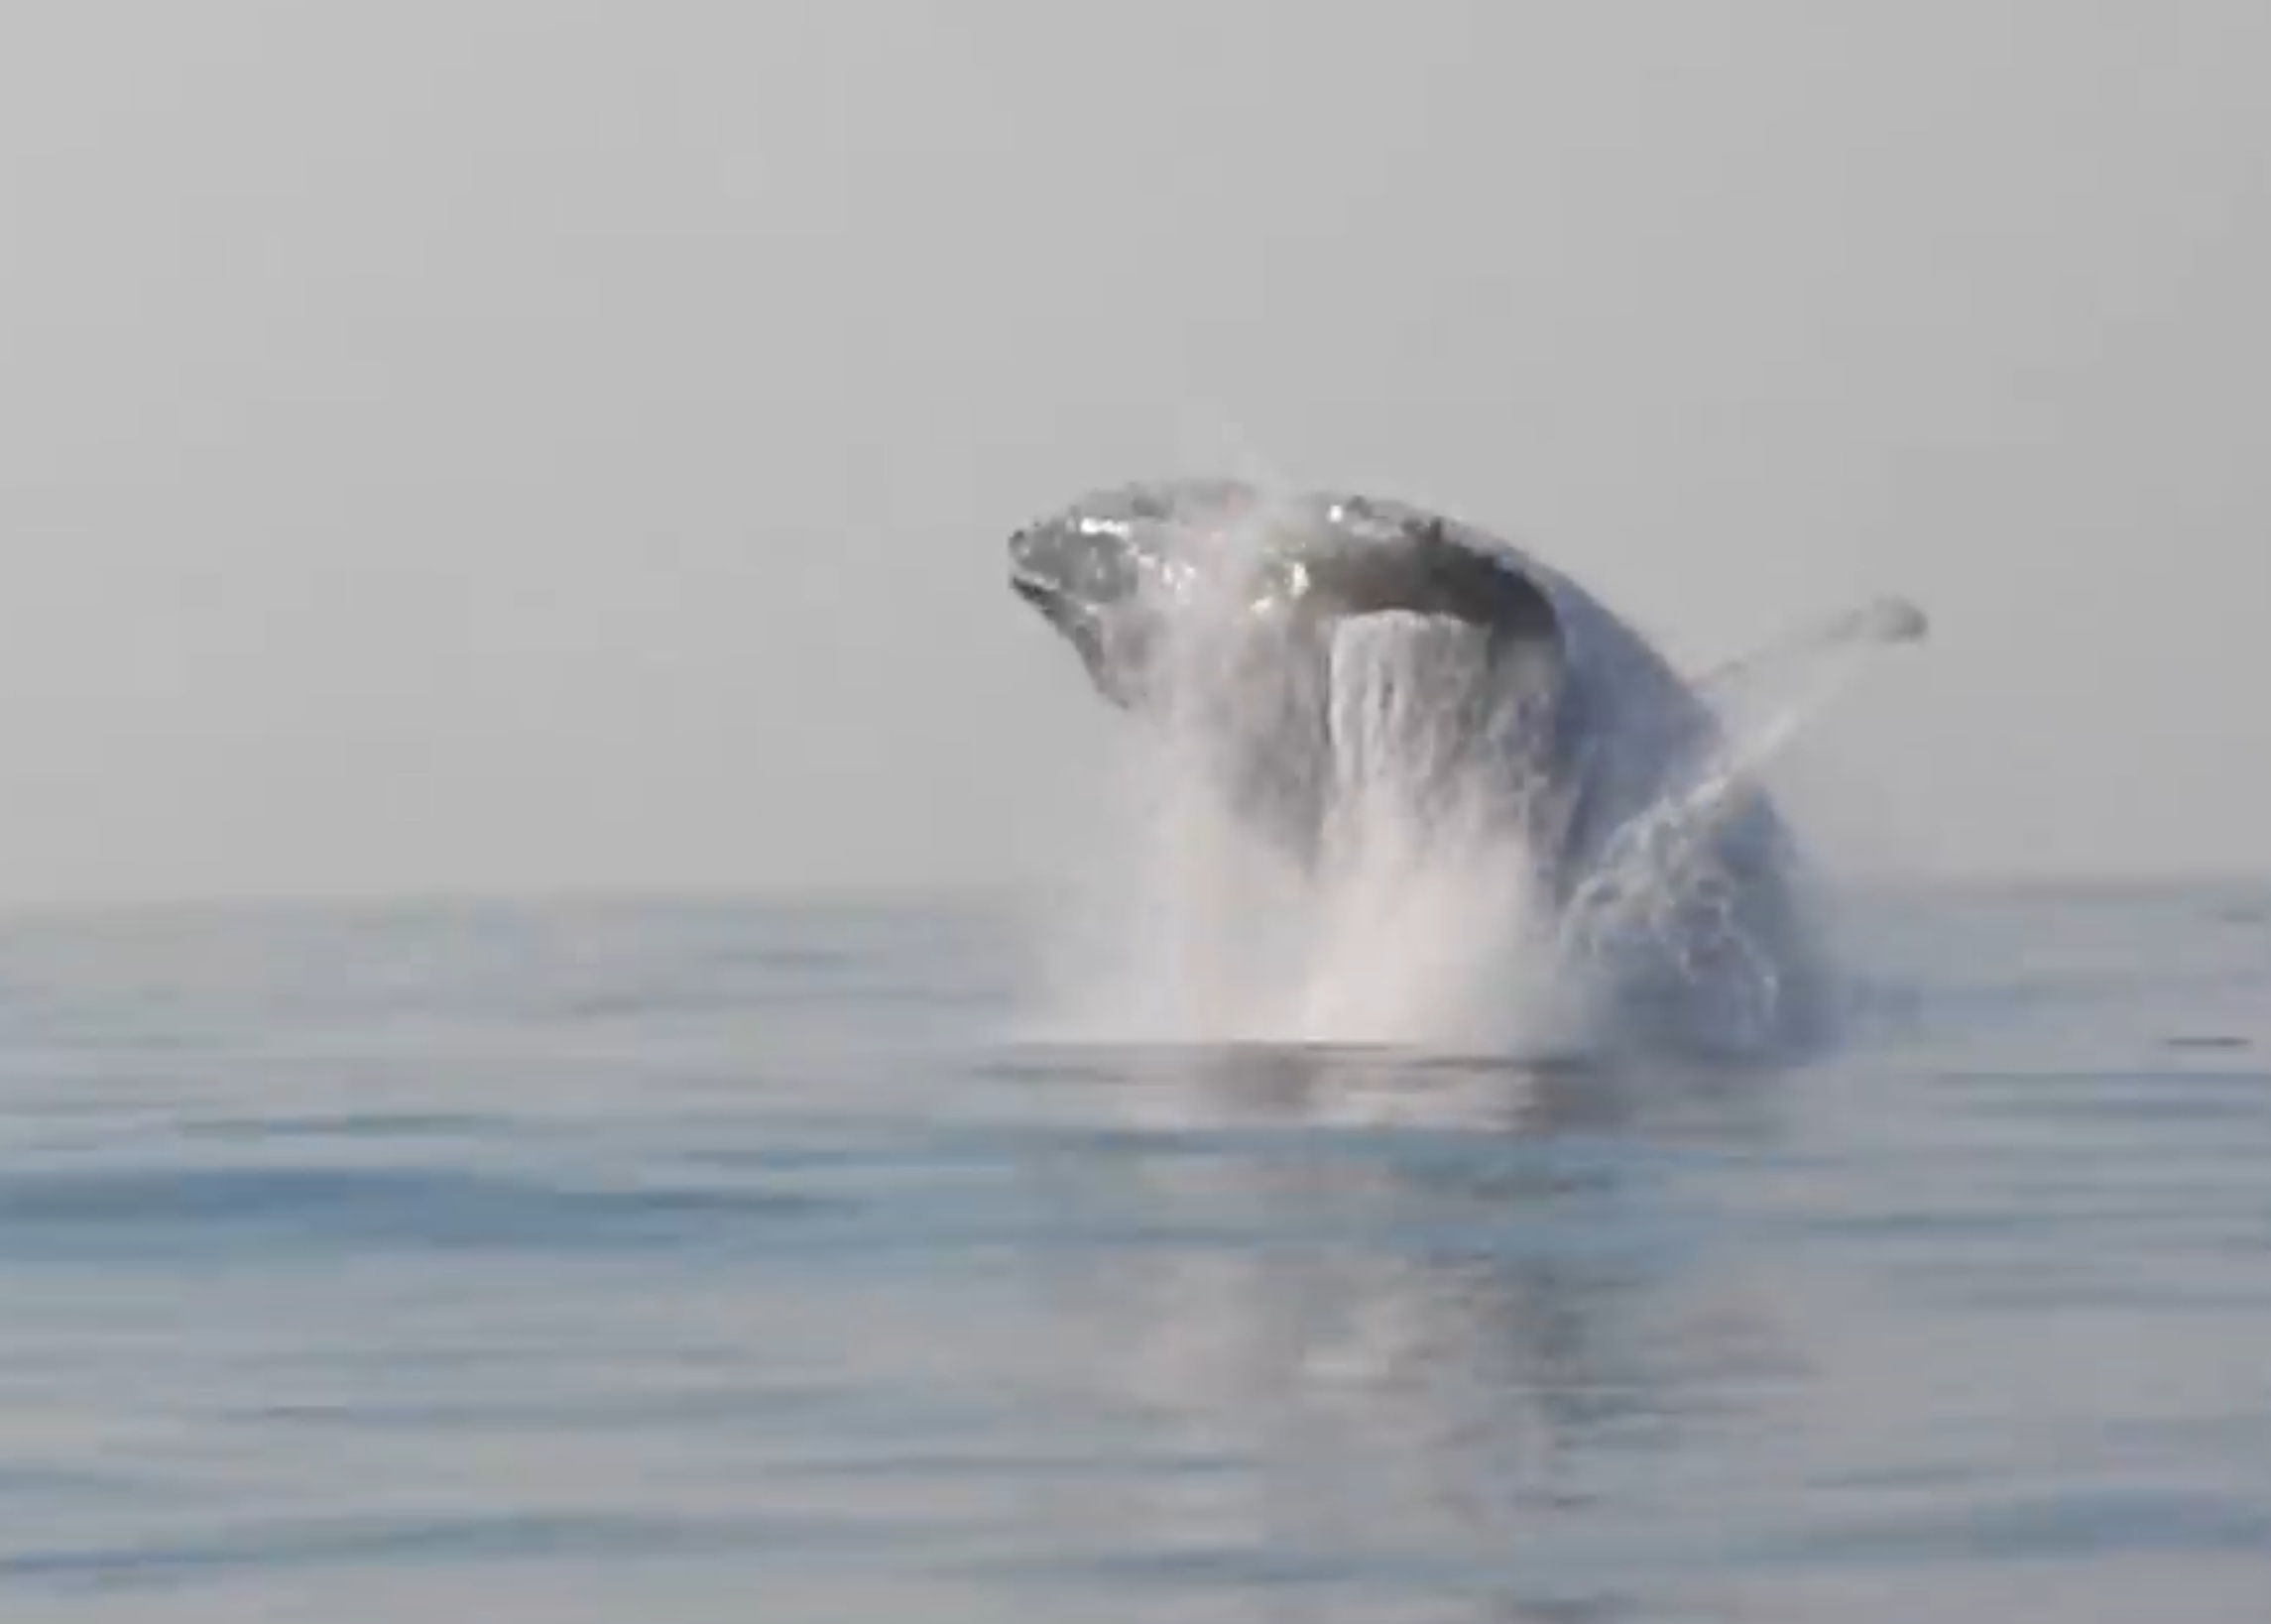humpback: (1005, 478, 1835, 1055)
